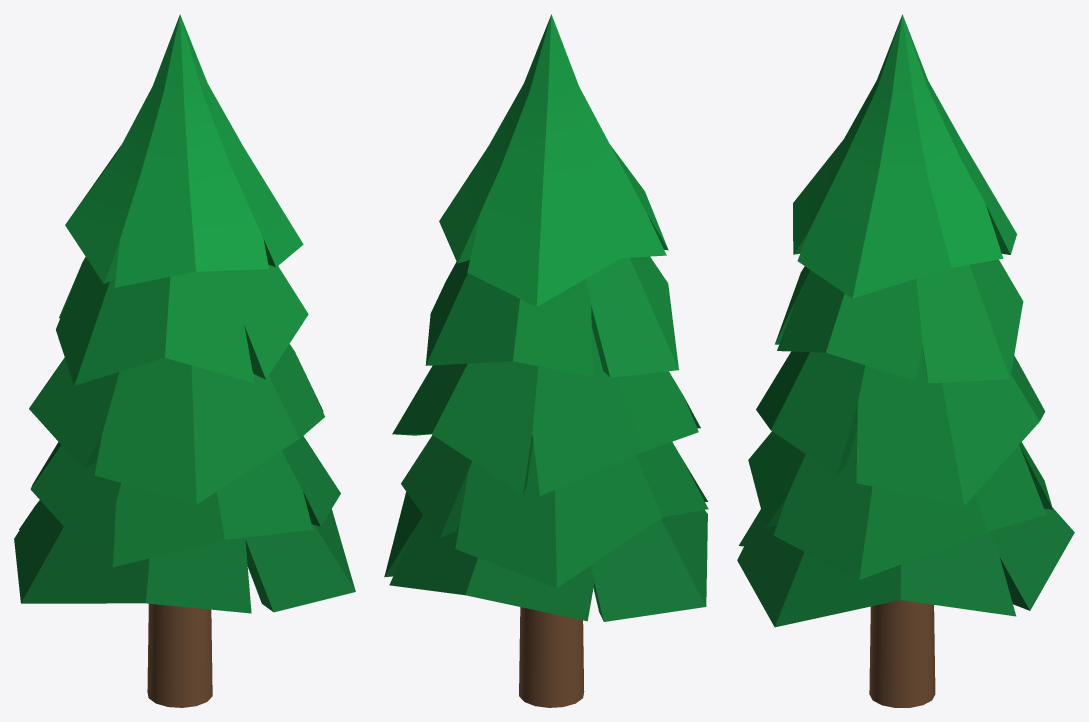
The model's file is Spruce_DarkGreen_3.fbx.
3 renders of one model, left to right at view 1: azimuth 30°, elevation 25°; view 2: azimuth 150°, elevation 25°; view 3: azimuth 270°, elevation 25°, orthographic.
Parts seen in each view (by area): view 1: Cylinder.034, Cylinder.033, Cylinder.032, Cylinder.030, Cylinder.031, Cylinder.029; view 2: Cylinder.034, Cylinder.033, Cylinder.031, Cylinder.032, Cylinder.030, Cylinder.029; view 3: Cylinder.034, Cylinder.033, Cylinder.031, Cylinder.032, Cylinder.030, Cylinder.029.
Part boxes in pixels (box(x1,y1,x2,y2)): Cylinder.034: box(65, 14, 303, 287); Cylinder.033: box(29, 344, 324, 504); Cylinder.032: box(56, 257, 308, 385); Cylinder.030: box(14, 500, 355, 613); Cylinder.031: box(30, 436, 340, 567); Cylinder.029: box(147, 603, 212, 707); Cylinder.034: box(439, 14, 668, 306); Cylinder.033: box(392, 327, 700, 495); Cylinder.031: box(401, 435, 708, 587); Cylinder.032: box(425, 256, 678, 377); Cylinder.030: box(384, 492, 707, 621); Cylinder.029: box(519, 607, 584, 707); Cylinder.034: box(793, 14, 1016, 298); Cylinder.033: box(756, 346, 1045, 505); Cylinder.031: box(748, 429, 1052, 579); Cylinder.032: box(775, 259, 1023, 383); Cylinder.030: box(737, 507, 1074, 627); Cylinder.029: box(869, 600, 935, 707).
Bounding box in the file's own units: 265 × 567 × 255.
